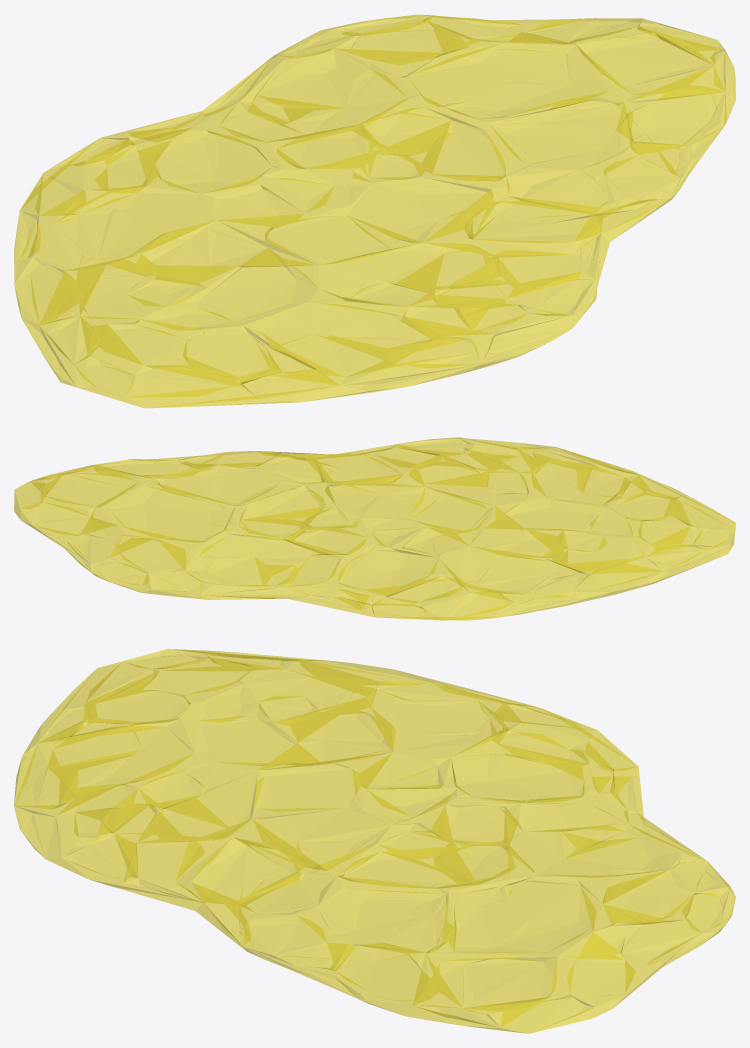
The model's file is hartya_golden_membrane.glb.
3 views of the same model, one above another, from view 1: azimuth 30°, elevation 25°; view 2: azimuth 150°, elevation 25°; view 3: azimuth 270°, elevation 25° (orthographic). The views are drawn at different scales.
Visible parts, largest first — view 1: Mesh_0; view 2: Mesh_0; view 3: Mesh_0.
Boxes of the visible parts, <box> form: Mesh_0: <box>14,14,735,408</box>; Mesh_0: <box>14,437,735,620</box>; Mesh_0: <box>14,649,735,1033</box>.
Bounding box in the file's own units: 1.78 × 0.0696 × 1.37.
